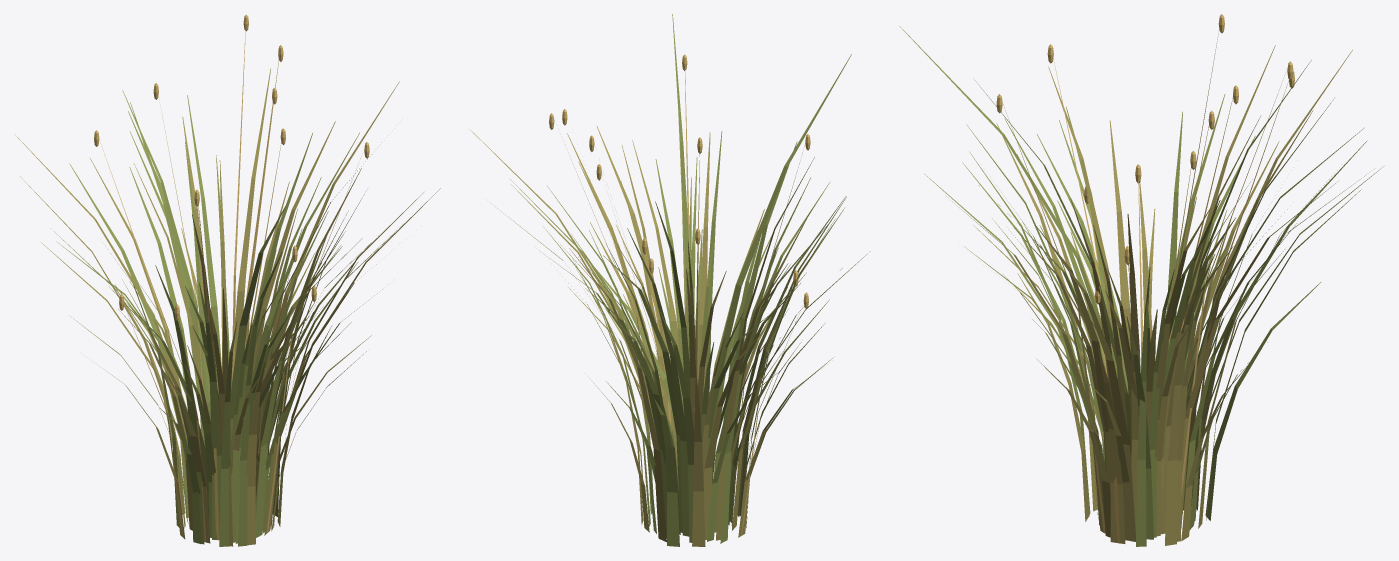
The model's file is prairie_bunchgrass_v3.glb.
The picture shows the model from 3 angles, left to right: view 1: azimuth 30°, elevation 25°; view 2: azimuth 150°, elevation 25°; view 3: azimuth 270°, elevation 25°; orthographic projection. The views are drawn at different scales.
Parts seen in each view (by area): view 1: prairie_bunchgrass_v3; view 2: prairie_bunchgrass_v3; view 3: prairie_bunchgrass_v3.
Boxes of the visible parts, left/top/right/bottom form: prairie_bunchgrass_v3: left=14, top=14, right=440, bottom=546; prairie_bunchgrass_v3: left=469, top=14, right=870, bottom=546; prairie_bunchgrass_v3: left=899, top=14, right=1383, bottom=546.
Size of the model in its own units: 0.9812 by 1.18 by 1.03.
